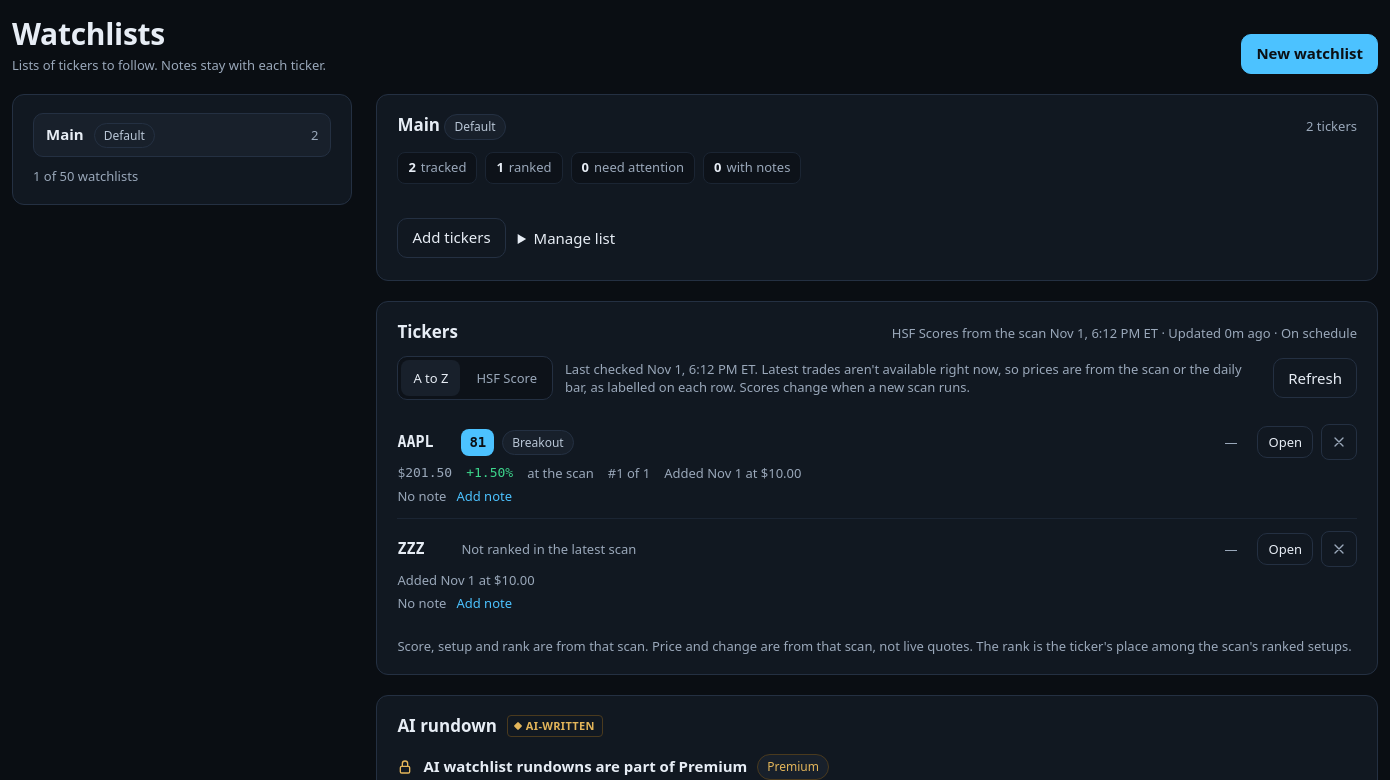
Watchlists › Refresh re-reads the list, its scores and daily bars in place
This screenshot has width=1390, height=780.
Expected: the text named "HSF Score 81" is shown, [461,429,494,456]
Click the button with aria-label "Refresh prices and scores for Main" at coordinates (1315, 378), box [1273,358,1357,398]
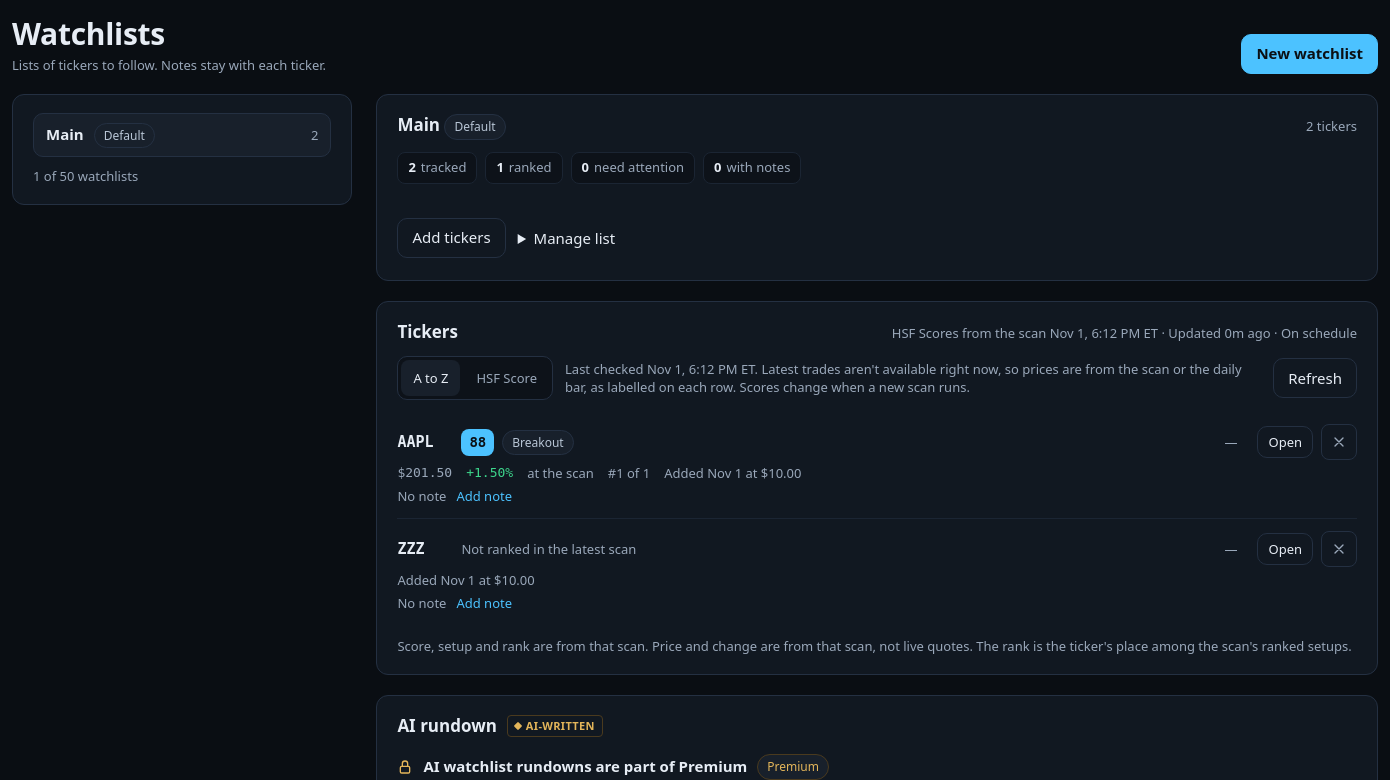
Expected: the heading "Main Default" is shown, [397,113,506,140]
Expected: the text named "HSF Score 88" is shown, [461,429,494,456]
